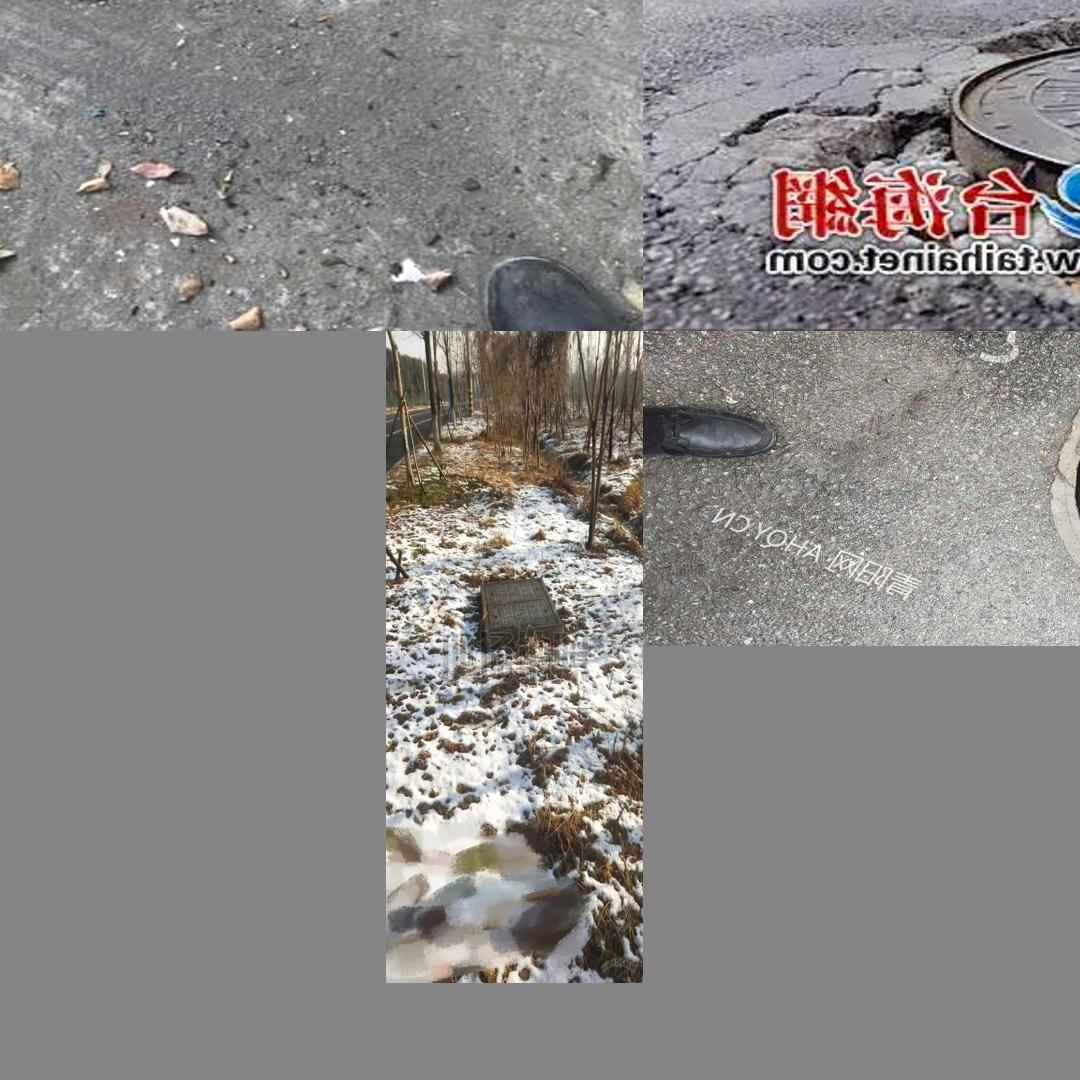circle: (701, 11, 1080, 299), (0, 0, 613, 33), (1029, 348, 1080, 623), (476, 577, 568, 656)
